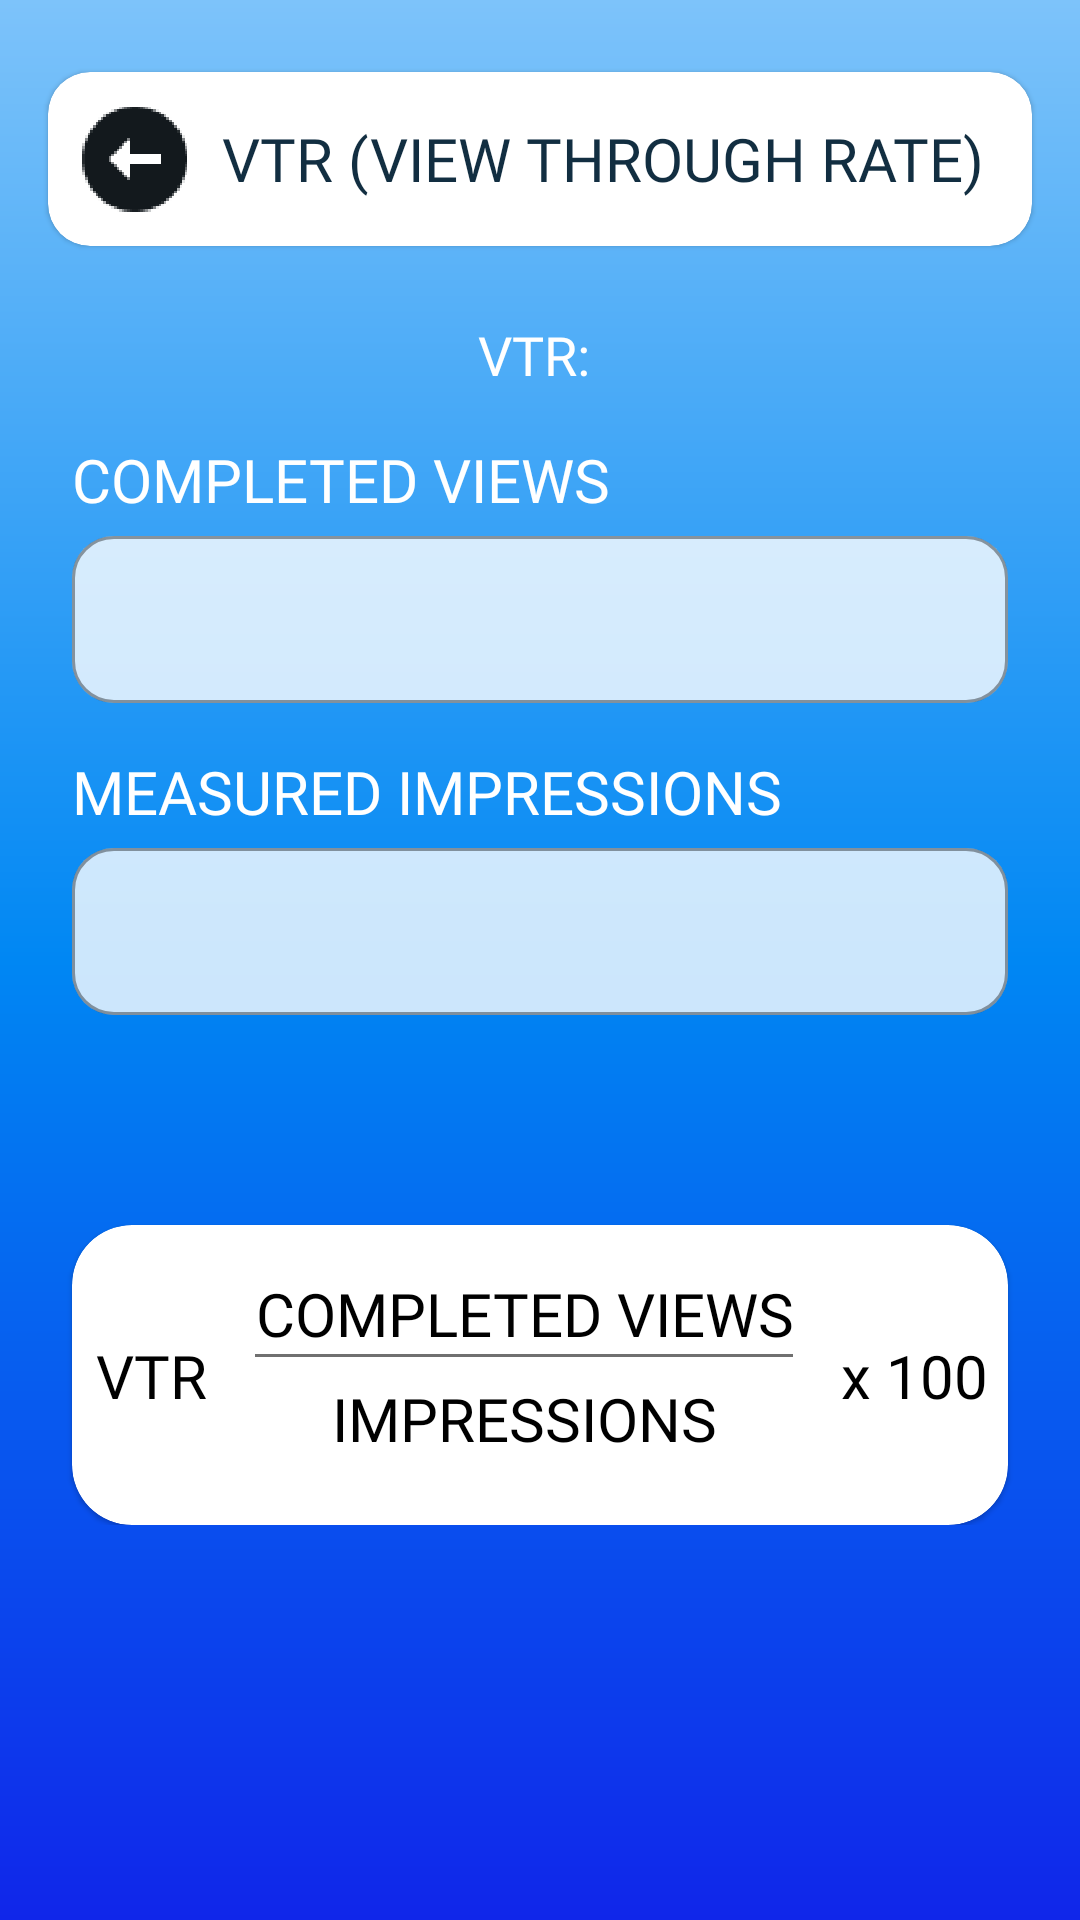

Named icons in this screenshot (1080 x 1920) and their bounding boxes, (x1=x1, y1=y1, x2=x2, y2=y2):
scroll back: (x1=82, y1=107, x2=187, y2=212)
